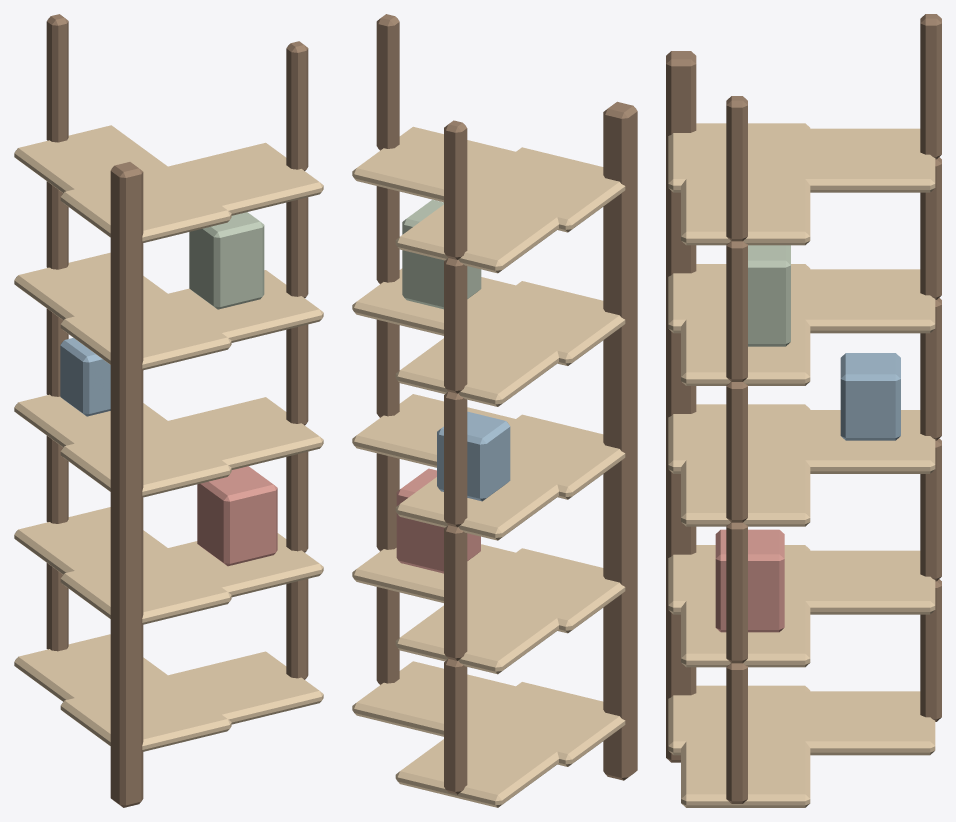
File: CornerShelfUnit.glb
The picture shows the model from 3 angles, left to right: view 1: azimuth 30°, elevation 25°; view 2: azimuth 150°, elevation 25°; view 3: azimuth 270°, elevation 25°; orthographic projection. The views are drawn at different scales.
Visible parts, largest first — view 1: SpaceSaver_CornerShelfUnit; view 2: SpaceSaver_CornerShelfUnit; view 3: SpaceSaver_CornerShelfUnit.
Part boxes in pixels (x1,y1,x2,y2): SpaceSaver_CornerShelfUnit: [14, 14, 323, 807]; SpaceSaver_CornerShelfUnit: [352, 14, 637, 807]; SpaceSaver_CornerShelfUnit: [666, 14, 941, 807].
Size of the model in its own units: 0.64 by 1.96 by 0.64.
